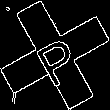P_NW: (26, 24, 84, 86)
